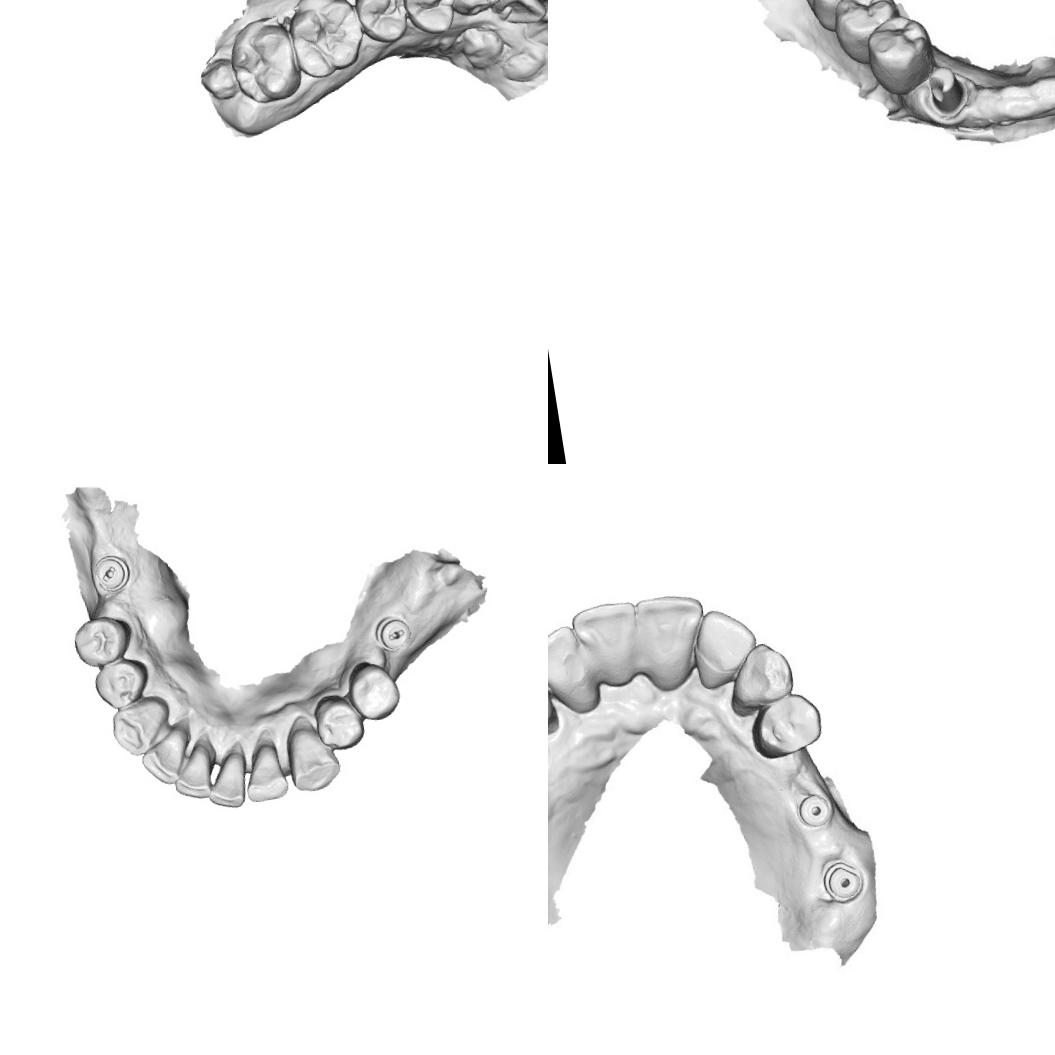abutment: (918, 60, 970, 124)
canine: (720, 638, 801, 714), (106, 691, 177, 761), (282, 720, 344, 796), (446, 0, 508, 22)
implant: (816, 854, 870, 908), (797, 788, 835, 826)
implant_minus: (88, 550, 134, 597), (372, 610, 416, 656)
incisor: (572, 597, 652, 698), (632, 590, 710, 684), (684, 604, 761, 690), (548, 624, 605, 714), (135, 722, 199, 791), (200, 745, 256, 815), (238, 739, 296, 805), (166, 740, 222, 805), (489, 0, 548, 39), (522, 0, 548, 60)
molar: (222, 11, 304, 110), (281, 0, 369, 83), (795, 0, 876, 19)
premolar: (745, 690, 828, 768), (861, 15, 932, 98), (826, 0, 900, 68), (342, 654, 404, 724), (68, 611, 134, 670), (310, 686, 366, 754), (90, 656, 154, 713), (350, 0, 415, 49), (397, 0, 462, 40)
